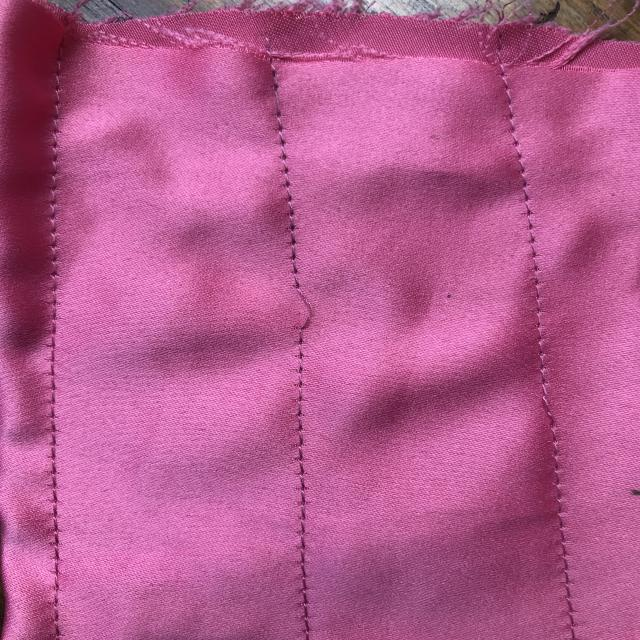skip: (282, 279, 330, 346)
